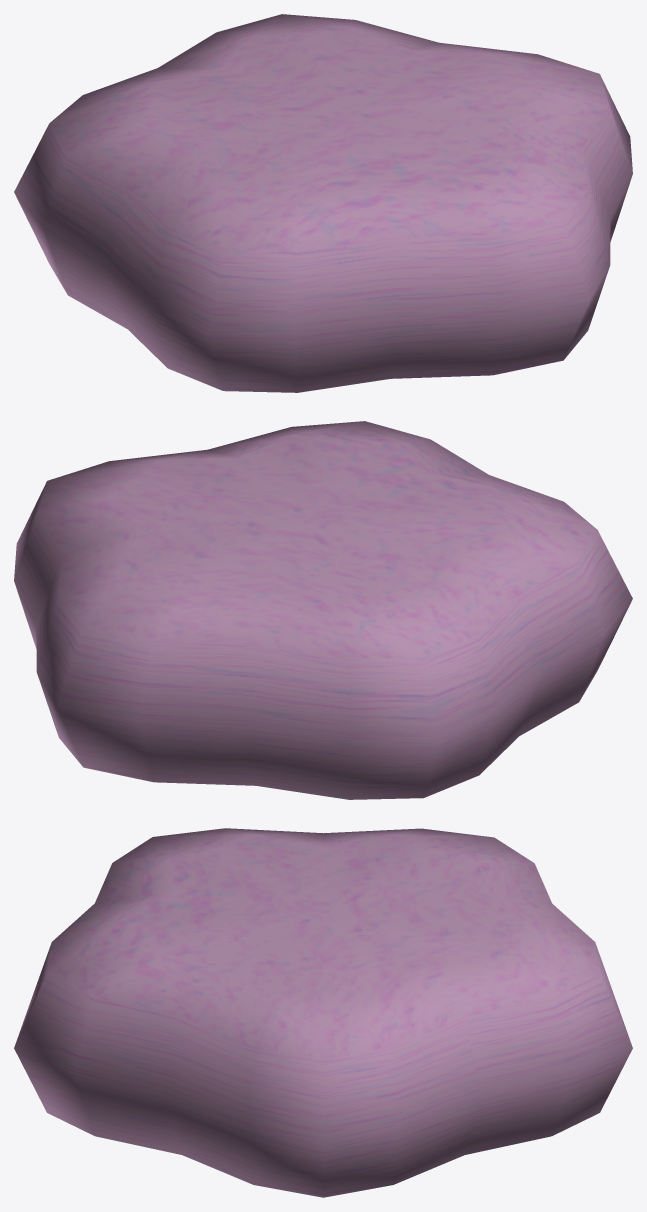
The model's file is Cereal_Star_Purple.fbx.
3 views of the same model, one above another, from view 1: azimuth 30°, elevation 25°; view 2: azimuth 150°, elevation 25°; view 3: azimuth 270°, elevation 25° (orthographic).
Parts seen in each view (by area): view 1: pCylinder3; view 2: pCylinder3; view 3: pCylinder3.
Boxes of the visible parts, x1,y1,x2,y2 form: pCylinder3: (14,14,632,392); pCylinder3: (14,421,632,799); pCylinder3: (14,828,632,1197).
Size of the model in its own units: 1.66 by 0.5592 by 1.7.
